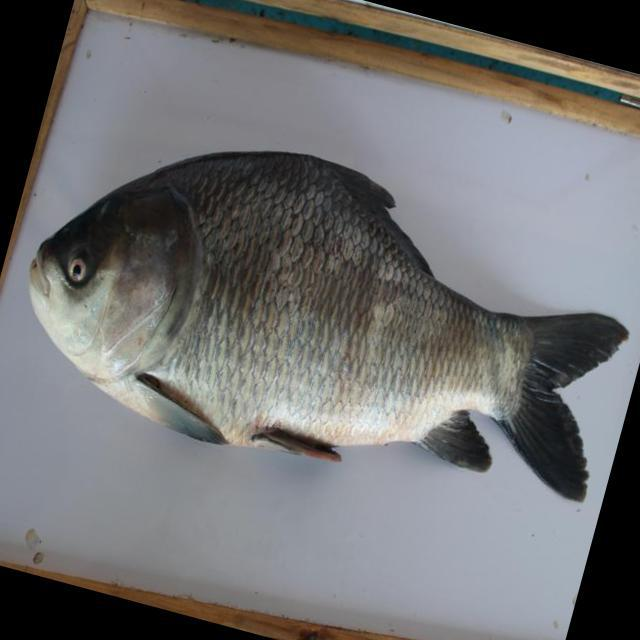Catla: (14, 145, 612, 506)
